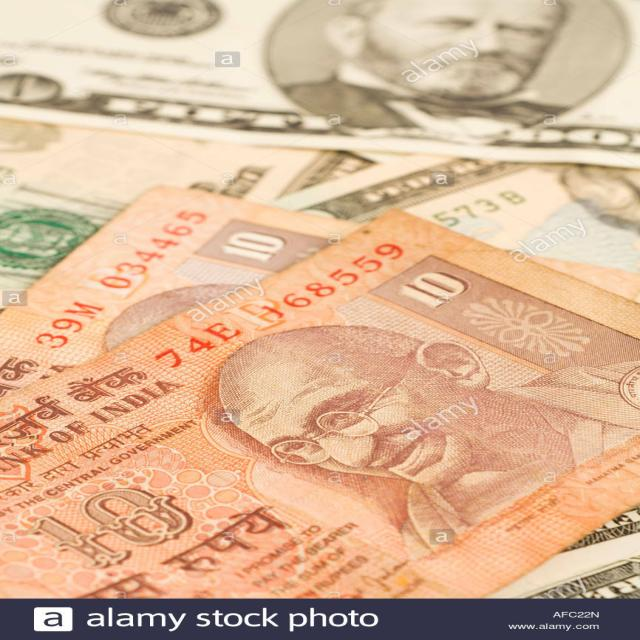10IndianRupees: (0, 222, 640, 598)
